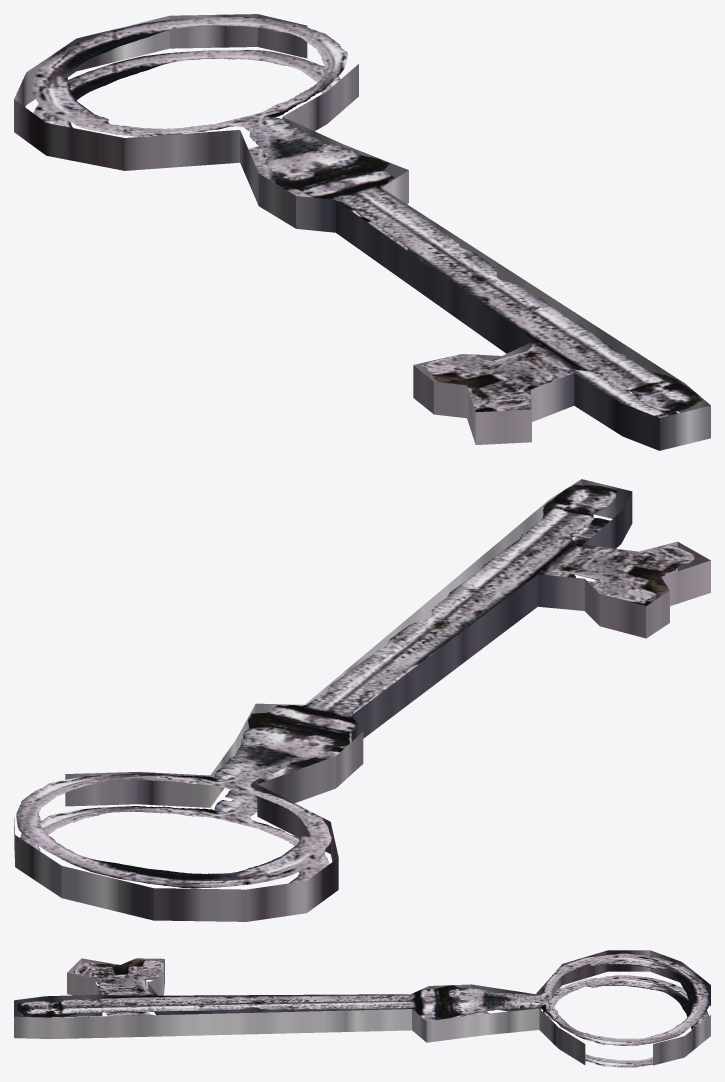
Rendered from BarnKeys.fbx.
3 views of the same model, one above another, from view 1: azimuth 30°, elevation 25°; view 2: azimuth 150°, elevation 25°; view 3: azimuth 270°, elevation 25° (orthographic). The views are drawn at different scales.
Parts seen in each view (by area): view 1: barnkey; view 2: barnkey; view 3: barnkey.
Part boxes in pixels (box(x1,y1,x2,y2)): barnkey: box(14, 14, 710, 450); barnkey: box(14, 479, 710, 921); barnkey: box(14, 950, 710, 1067).
Size of the model in its own units: 17.44 by 1.82 by 53.46.
